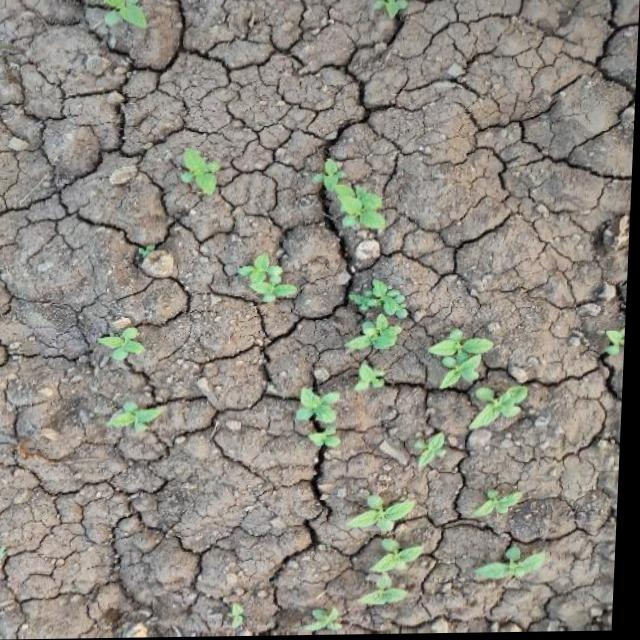crop: (288, 352, 393, 470), (427, 332, 545, 437), (339, 486, 437, 611), (339, 276, 419, 425), (465, 479, 559, 597), (102, 311, 178, 444), (314, 150, 398, 242), (171, 141, 231, 212), (241, 253, 304, 306)
